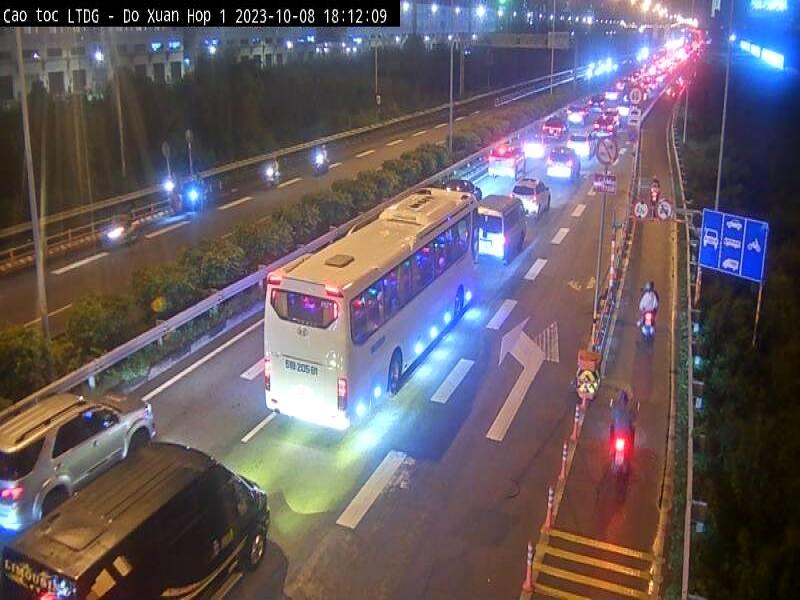bus: (262, 130, 496, 486)
car: (3, 441, 282, 597), (0, 386, 162, 512), (474, 191, 528, 269), (486, 140, 526, 180), (513, 180, 551, 218), (544, 110, 570, 150), (547, 144, 574, 179), (571, 122, 594, 158)
motorcycle: (600, 437, 638, 484), (631, 307, 659, 337)
